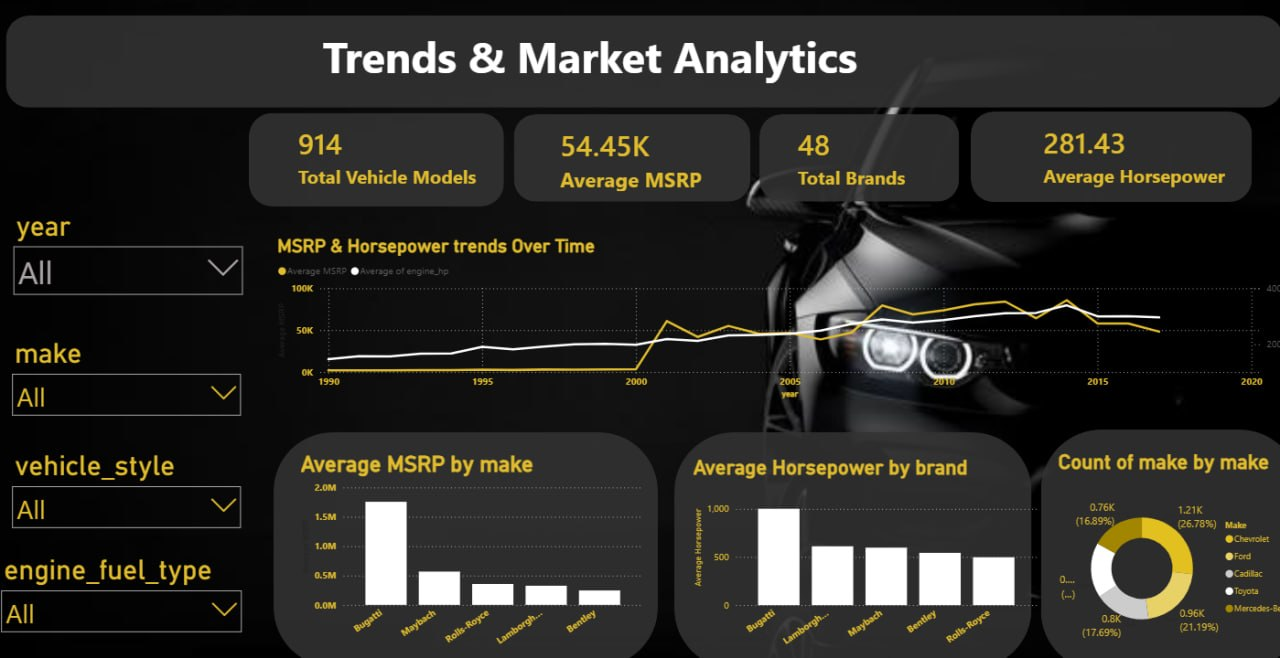

The page's visual inventory and layout, read from the dashboard file:
{"tool":"powerbi","page":{"name":"Home","canvas":[1700,1000],"ordinal":0},"visuals":[{"type":"shape","box":[332.5,65,1305,120],"z":0},{"type":"slicer","fields":{"Values":["data_cleaned.year"]},"box":[16,320,318,158],"z":1000},{"type":"slicer","fields":{"Values":["data_cleaned.make"]},"box":[15,485,317.5,115],"z":2000},{"type":"shape","box":[885,615,465,307.5],"z":3000},{"type":"slicer","fields":{"Values":["data_cleaned.vehicle_style"]},"box":[15,632.5,317.5,115],"z":4000},{"type":"slicer","fields":{"Values":["data_cleaned.engine_fuel_type"]},"box":[0,767.5,332.5,190],"z":5000},{"type":"shape","box":[996,200,260,102],"z":6000},{"type":"shape","box":[365,615,500,305],"z":7000},{"type":"shape","box":[1362.5,610,337.5,315],"z":8000},{"type":"shape","box":[676,200,308,114],"z":9000},{"type":"shape","box":[1272.5,195,365,107.5],"z":10000},{"type":"shape","box":[332,198,332,122],"z":11000},{"type":"cardVisual","fields":{"Data":["data_cleaned.Total Vehicle Models"]},"box":[366,192,240,122],"z":12000},{"type":"cardVisual","fields":{"Data":["data_cleaned.Average MSRP"]},"box":[692,194,240,122],"z":13000},{"type":"cardVisual","fields":{"Data":["data_cleaned.Average Horsepower"]},"box":[1325,190,240,122.5],"z":14000},{"type":"cardVisual","fields":{"Data":["data_cleaned.Total Brands"]},"box":[1016,194,240,122],"z":15000},{"type":"clusteredColumnChart","fields":{"Category":["data_cleaned.make"],"Y":["data_cleaned.Average MSRP"]},"box":[395,640,455,282.5],"z":16000},{"type":"clusteredColumnChart","fields":{"Category":["data_cleaned.make"],"Y":["data_cleaned.Average Horsepower"]},"box":[905,645,457.5,277.5],"z":17000},{"type":"lineChart","fields":{"Category":["data_cleaned.year"],"Y":["data_cleaned.Average MSRP"]},"box":[365,357.5,1335,217.5],"z":18000},{"type":"donutChart","fields":{"Y":["data_cleaned.Total Vehicle Models"],"Category":["data_cleaned.make"]},"box":[1380,637.5,320,277.5],"z":19000},{"type":"textbox","box":[565,65,1120,150],"z":20000},{"type":"shape","box":[17.5,65,300,250],"z":21000}]}

Visuals, with their boxes on the page's 1700x1000 design canvas (x1, y1, x2, y2). These are canvas units, not pixel positions in the 1280x658 screenshot, which may show the page scaled, cropped or inside an application window:
shape: [332,65,1638,185]
slicer - data_cleaned.year: [16,320,334,478]
slicer - data_cleaned.make: [15,485,332,600]
shape: [885,615,1350,922]
slicer - data_cleaned.vehicle_style: [15,632,332,748]
slicer - data_cleaned.engine_fuel_type: [0,768,332,958]
shape: [996,200,1256,302]
shape: [365,615,865,920]
shape: [1362,610,1700,925]
shape: [676,200,984,314]
shape: [1272,195,1638,302]
shape: [332,198,664,320]
cardVisual - data_cleaned.Total Vehicle Models: [366,192,606,314]
cardVisual - data_cleaned.Average MSRP: [692,194,932,316]
cardVisual - data_cleaned.Average Horsepower: [1325,190,1565,312]
cardVisual - data_cleaned.Total Brands: [1016,194,1256,316]
clusteredColumnChart - data_cleaned.make x data_cleaned.Average MSRP: [395,640,850,922]
clusteredColumnChart - data_cleaned.make x data_cleaned.Average Horsepower: [905,645,1362,922]
lineChart - data_cleaned.year x data_cleaned.Average MSRP: [365,358,1700,575]
donutChart - data_cleaned.Total Vehicle Models x data_cleaned.make: [1380,638,1700,915]
textbox: [565,65,1685,215]
shape: [18,65,318,315]
